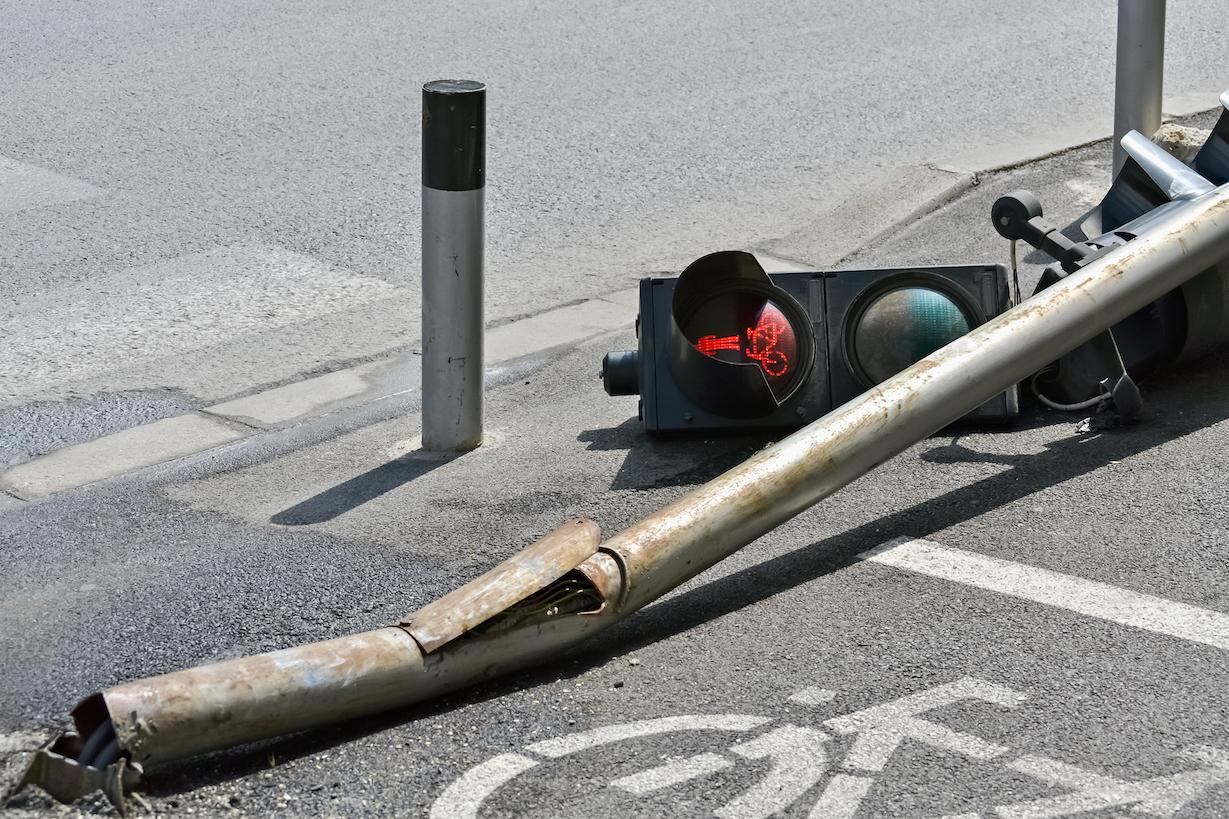off traffic light: (601, 252, 1012, 434)
